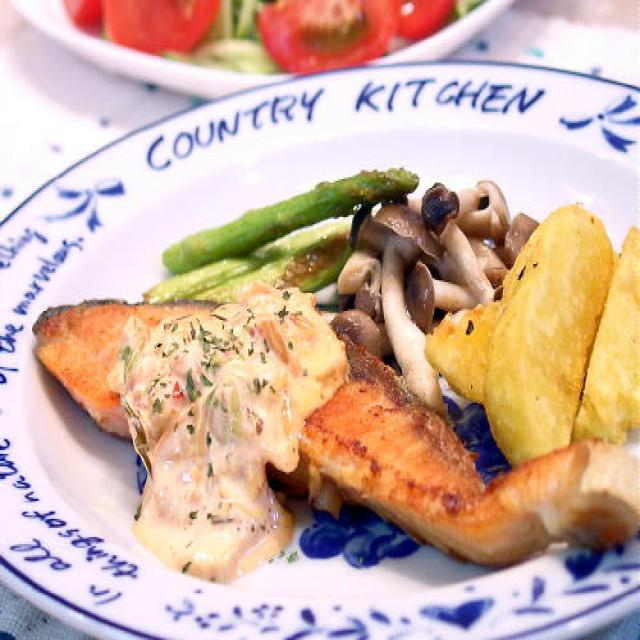熟制海鲜: (16, 287, 640, 562)
